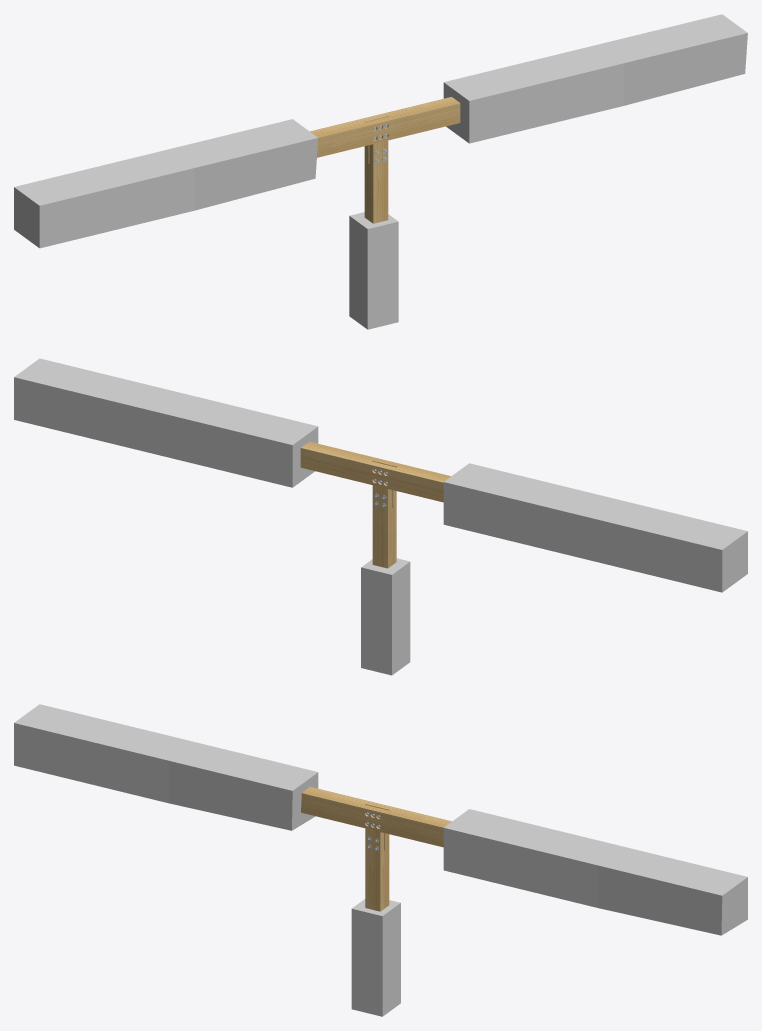
Rendered from platew.glb.
The picture shows the model from 3 angles, top to bottom: view 1: azimuth 30°, elevation 25°; view 2: azimuth 150°, elevation 25°; view 3: azimuth 330°, elevation 25°; orthographic projection.
Visible parts, largest first — view 1: Cube.001, Cube, Cube.002, płatew pośrednia, słup; view 2: Cube.001, Cube, Cube.002, płatew pośrednia, słup; view 3: Cube, Cube.001, Cube.002, płatew pośrednia, słup.
Part boxes in pixels (<box>): Cube.001: <box>14,119,318,248</box>; Cube: <box>443,14,747,143</box>; Cube.002: <box>349,212,398,329</box>; płatew pośrednia: <box>310,97,460,157</box>; słup: <box>364,140,388,223</box>; Cube.001: <box>443,463,747,592</box>; Cube: <box>14,358,318,487</box>; Cube.002: <box>361,558,410,675</box>; płatew pośrednia: <box>300,441,451,502</box>; słup: <box>372,485,396,568</box>; Cube: <box>443,809,747,935</box>; Cube.001: <box>14,704,318,830</box>; Cube.002: <box>351,899,400,1016</box>; płatew pośrednia: <box>301,786,451,847</box>; słup: <box>365,828,389,911</box>.
Size of the model in its own units: 7.51 by 2.12 by 0.472.
Materials: 54 (54 with a texture image).
